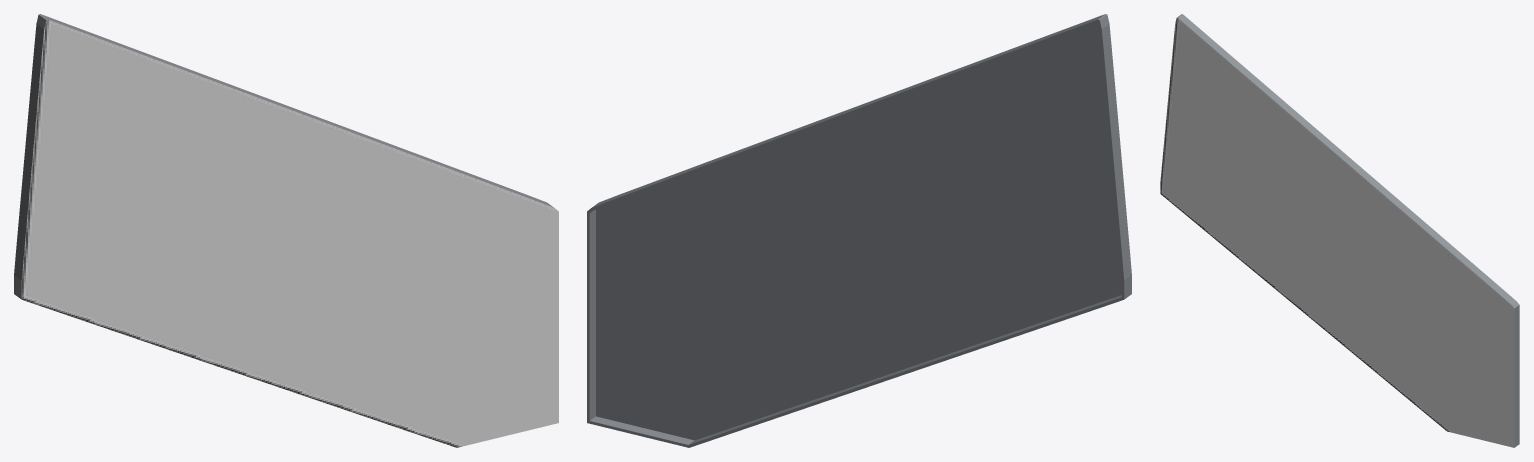
The picture shows the model from 3 angles, left to right: view 1: azimuth 30°, elevation 25°; view 2: azimuth 150°, elevation 25°; view 3: azimuth 330°, elevation 25°; orthographic projection. The views are drawn at different scales.
Visible parts, largest first — view 1: cat_30324b144242f3b4; view 2: cat_30324b144242f3b4; view 3: cat_30324b144242f3b4.
Boxes of the visible parts, box(x1,y1,x2,y2) form: cat_30324b144242f3b4: box(14, 14, 558, 447); cat_30324b144242f3b4: box(587, 14, 1131, 447); cat_30324b144242f3b4: box(1160, 14, 1519, 447).
Size of the model in its own units: 0.6 by 0.015 by 0.5635.
2 materials, 1 textured.
